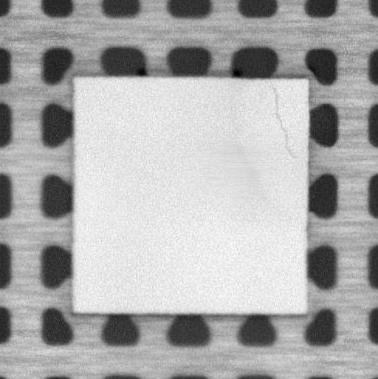DIE_CRACK: (272, 86, 300, 162)
